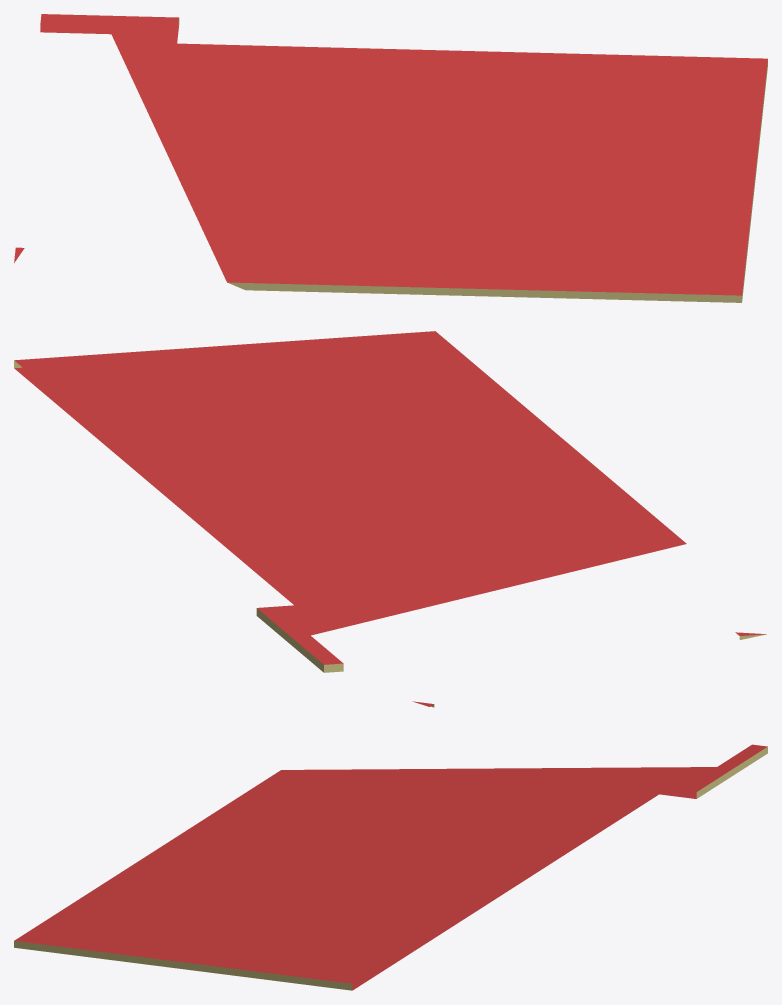
3 renders of one model, top to bottom at view 1: azimuth 30°, elevation 25°; view 2: azimuth 150°, elevation 25°; view 3: azimuth 270°, elevation 25°, orthographic. The views are drawn at different scales.
Size of the model in its own units: 10.31 by 9.92 by 0.93.
